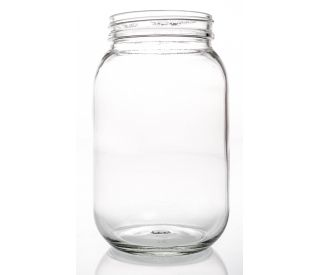glass_bottle: (89, 7, 232, 261)
